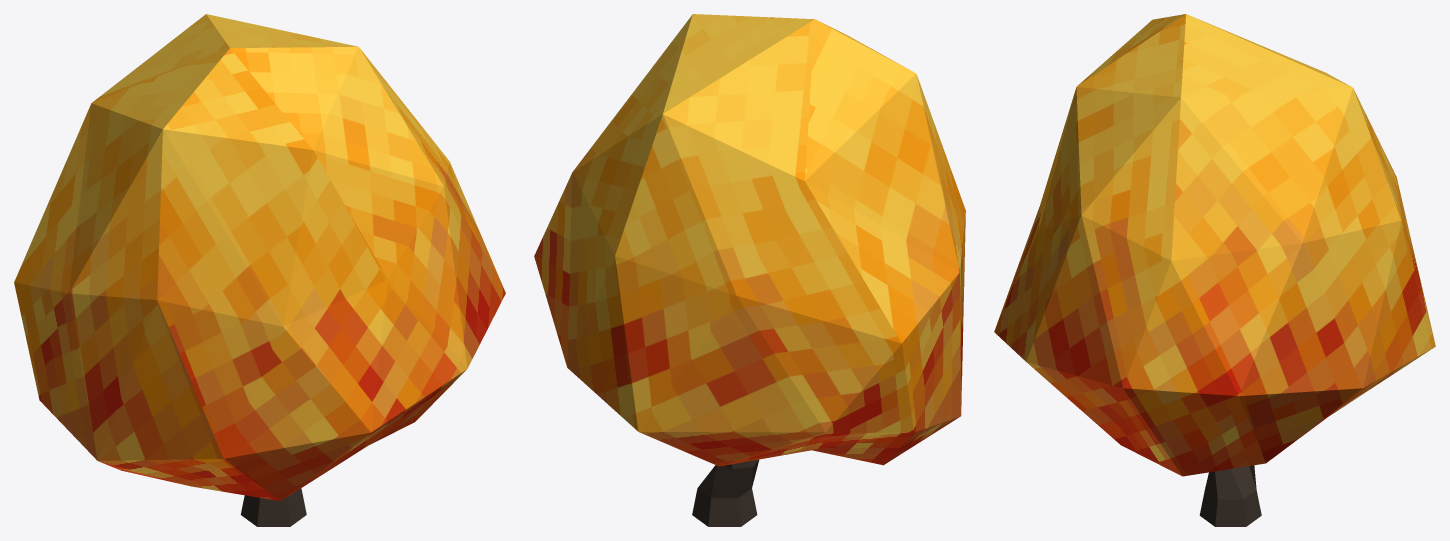
Rendered from klon.glb.
3 renders of one model, left to right at view 1: azimuth 30°, elevation 25°; view 2: azimuth 150°, elevation 25°; view 3: azimuth 270°, elevation 25°, orthographic. The views are drawn at different scales.
Parts seen in each view (by area): view 1: Icosphere, Cylinder; view 2: Icosphere, Cylinder; view 3: Icosphere, Cylinder.
Part boxes in pixels (x1,y1,x2,y2): Icosphere: [14, 14, 505, 500]; Cylinder: [240, 488, 306, 526]; Icosphere: [534, 14, 965, 466]; Cylinder: [692, 459, 759, 526]; Icosphere: [994, 14, 1435, 476]; Cylinder: [1199, 465, 1261, 526].
Size of the model in its own units: 38.74 by 45.22 by 38.47.
2 materials, 1 textured.
